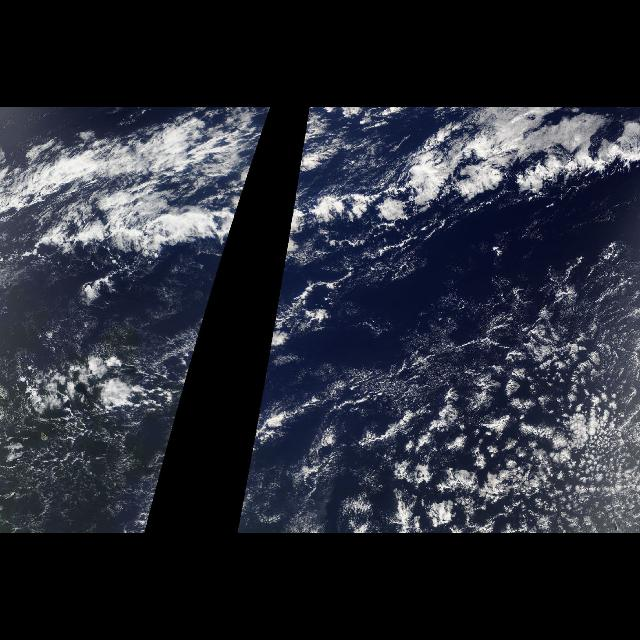Fish: (284, 112, 640, 258), (14, 112, 270, 250)
Flower: (335, 301, 639, 533), (382, 110, 640, 228)
Gravel: (12, 381, 176, 522)
Sugar: (370, 296, 640, 478)
